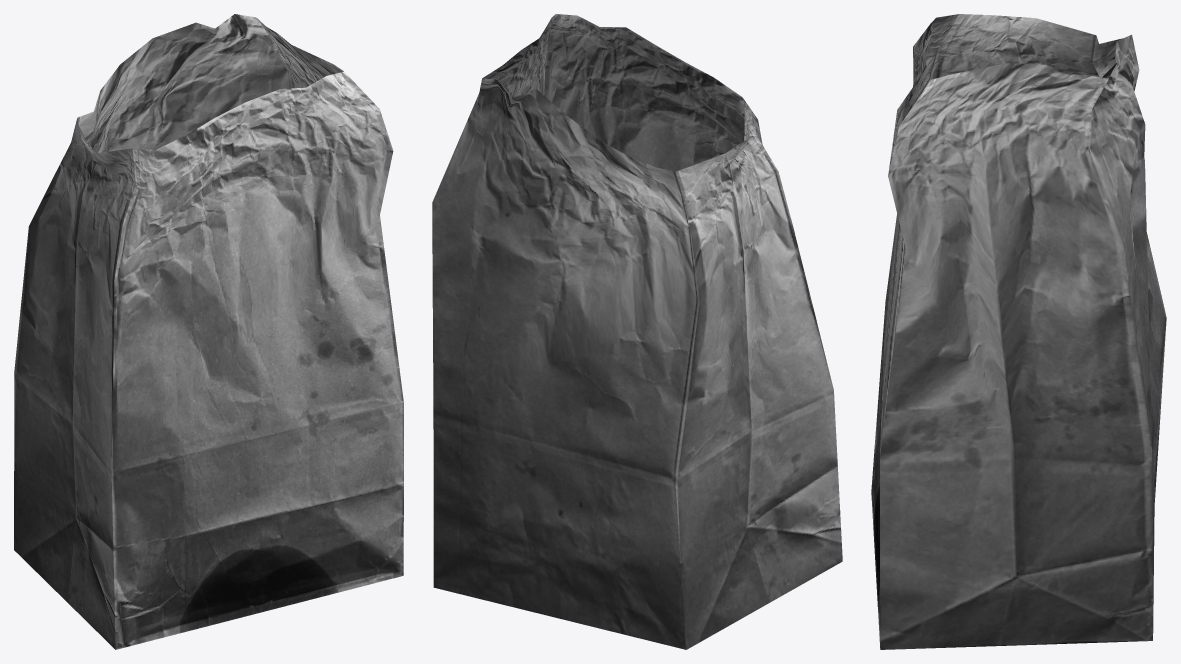
File: fast_food_bag_4.fbx
The picture shows the model from 3 angles, left to right: view 1: azimuth 30°, elevation 25°; view 2: azimuth 150°, elevation 25°; view 3: azimuth 270°, elevation 25°; orthographic projection. The views are drawn at different scales.
Parts seen in each view (by area): view 1: fast_food_bag_4; view 2: fast_food_bag_4; view 3: fast_food_bag_4.
Part boxes in pixels (left/top/right/bottom): fast_food_bag_4: left=14, top=14, right=403, bottom=649; fast_food_bag_4: left=432, top=14, right=842, bottom=649; fast_food_bag_4: left=871, top=14, right=1166, bottom=649.
Bounding box in the file's own units: 27.16 × 43.21 × 20.76.
